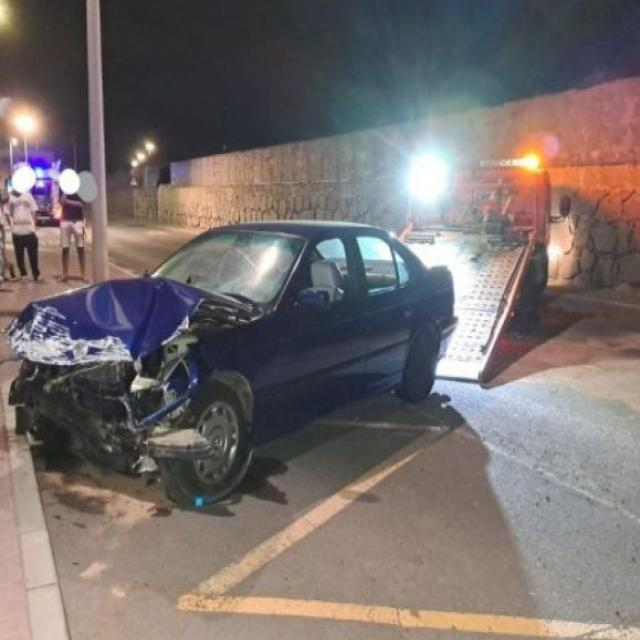crush: (5, 275, 259, 458)
